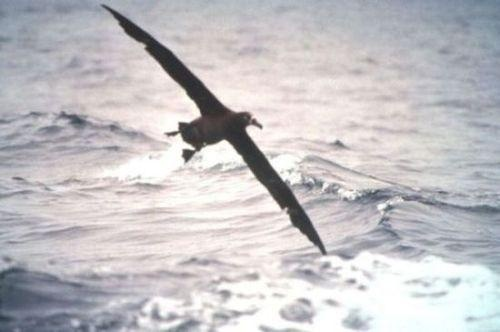bird: (100, 4, 336, 257)
